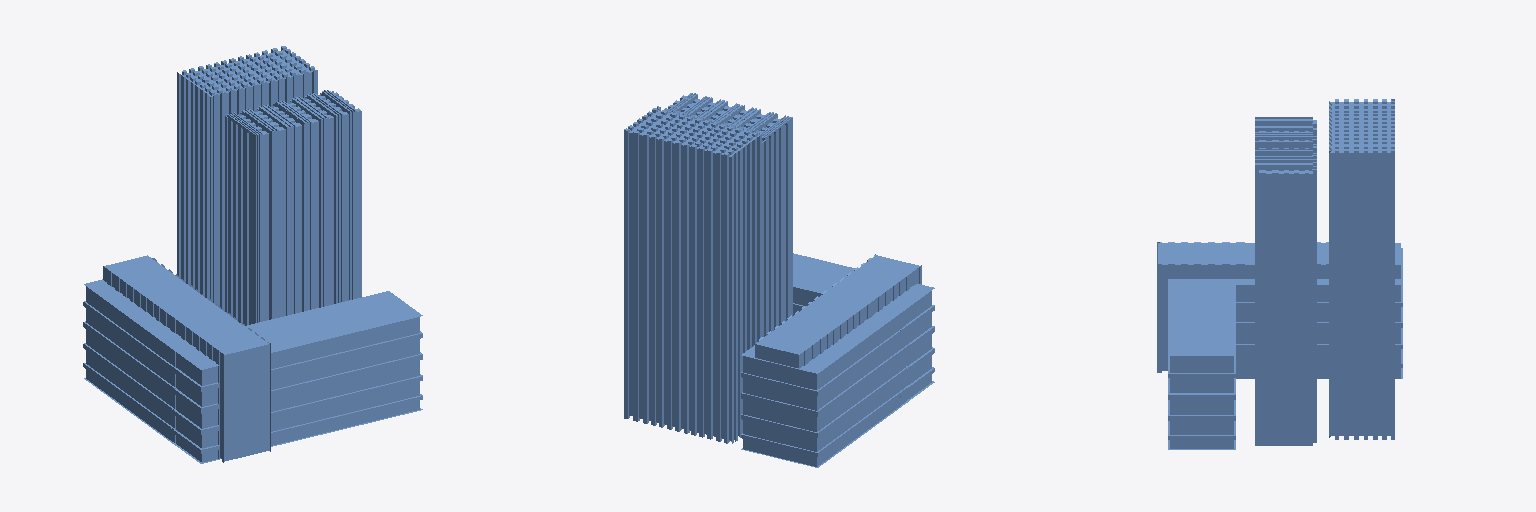
The model's file is JFmodel.obj.
3 views of the same model, side by side, from view 1: azimuth 30°, elevation 25°; view 2: azimuth 150°, elevation 25°; view 3: azimuth 270°, elevation 25° (orthographic).
Visible parts, largest first — view 1: 立方体.2, 立方体, 立方体.3, 立方体.4, 立方体.1; view 2: 立方体.3, 立方体.1, 立方体.2, 立方体.4, 立方体; view 3: 立方体.3, 立方体.2, 立方体, 立方体.4, 立方体.1.
Part boxes in pixels (x1,y1,x2,y2): 立方体.2: (225,90,361,325); 立方体: (167,291,422,463); 立方体.3: (177,46,317,311); 立方体.4: (103,255,270,462); 立方体.1: (83,279,184,443); 立方体.3: (624,106,761,443); 立方体.1: (741,309,908,467); 立方体.2: (664,93,792,336); 立方体.4: (755,254,921,368); 立方体: (793,253,934,406); 立方体.3: (1329,99,1394,439); 立方体.2: (1255,117,1316,445); 立方体: (1168,279,1235,449); 立方体.4: (1157,242,1400,372); 立方体.1: (1236,248,1402,378).
Bounding box in the file's own units: 795 × 1005 × 761.